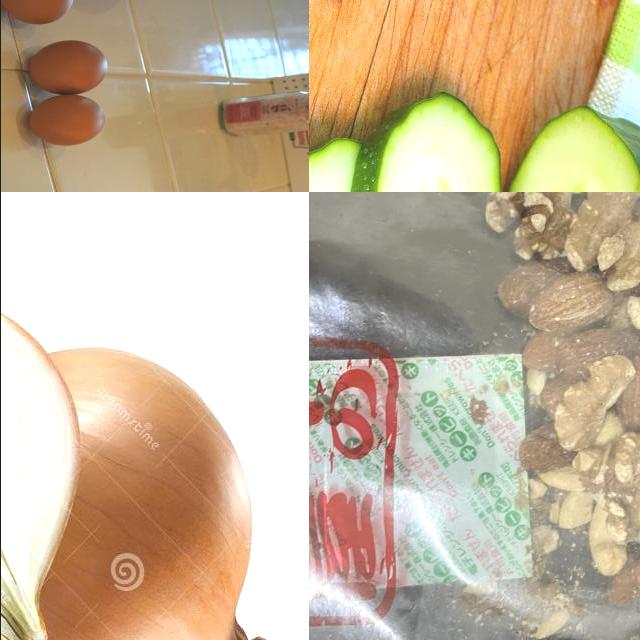egg: (25, 36, 115, 104), (25, 87, 111, 153), (1, 1, 78, 30)
onion: (1, 348, 306, 640), (1, 267, 84, 640)
